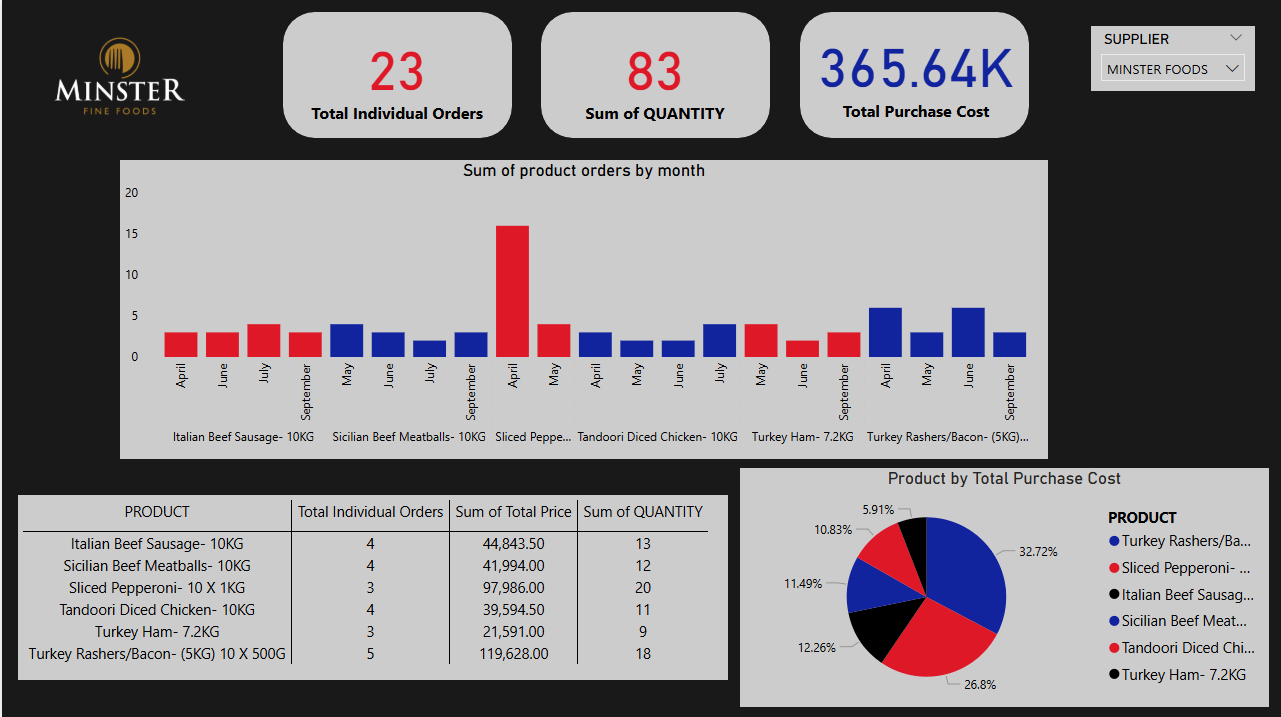

The dashboard page shown, as its layout file describes it:
{"tool":"powerbi","page":{"name":"MINSTER","canvas":[1280,720],"ordinal":1},"visuals":[{"type":"pivotTable","fields":{"Rows":["deliveryScheduleCSV.PRODUCT"],"Values":["MeasureTable.Total Individual Orders","Sum(deliveryScheduleCSV.Total Price)","Sum(deliveryScheduleCSV.QUANTITY)"]},"box":[15.6,495.6,710,185.6],"z":0},{"type":"shape","box":[281.1,13.3,228.6,126.4],"z":1000,"group":"g3"},{"type":"shape","box":[538.9,13.3,228.6,126.4],"z":1000,"group":"g1"},{"type":"slicer","fields":{"Values":["unique_supplier sheet.SUPPLIER"]},"box":[1088.9,27.5,164,64.7],"z":1000},{"type":"shape","box":[797.8,13.3,228.6,126.4],"z":2000,"group":"g2"},{"type":"pieChart","fields":{"Category":["unique_product sheet.PRODUCT"],"Y":["MeasureTable.Total Purchase Cost"]},"box":[737.8,468.9,528.9,238.9],"z":2000},{"type":"lineStackedColumnComboChart","title":"Sum of product by month","fields":{"Y":["Sum(deliveryScheduleCSV.QUANTITY)"],"Category":["unique_product sheet.PRODUCT","deliveryScheduleCSV.DATE RECEIVED.Variation.Date Hierarchy.Month"]},"box":[117.8,161.1,927.8,298.9],"z":3000},{"type":"image","box":[45.7,4.9,144,144],"z":4000},{"type":"group","id":"g1","title":"Group 1","box":[538.9,13.3,228.9,126.7],"z":5000},{"type":"group","id":"g2","title":"Group 2","box":[797.8,13.3,228.6,126.4],"z":6000},{"type":"group","id":"g3","title":"Group 1","box":[281.1,13.3,228.9,126.7],"z":7000},{"type":"card","fields":{"Values":["MeasureTable.Total Purchase Cost"]},"box":[809.2,19.6,210,107.8],"z":7000,"group":"g2"},{"type":"card","fields":{"Values":["MeasureTable.Total Individual Orders"]},"box":[294.9,24,200,103.3],"z":8000,"group":"g3"},{"type":"card","fields":{"Values":["Sum(deliveryScheduleCSV.QUANTITY)"]},"box":[552.7,24,200,103.3],"z":8000,"group":"g1"}]}

Visuals, with their boxes in screenshot pixels (x1, y1, x2, y2), scaled from the page's 1280x720 canvas onto the 1281x717 screenshot:
pivotTable - deliveryScheduleCSV.PRODUCT x MeasureTable.Total Individual Orders: x1=16, y1=494, x2=726, y2=678
shape: x1=281, y1=13, x2=510, y2=139
shape: x1=539, y1=13, x2=768, y2=139
slicer - unique_supplier sheet.SUPPLIER: x1=1090, y1=27, x2=1254, y2=92
shape: x1=798, y1=13, x2=1027, y2=139
pieChart - unique_product sheet.PRODUCT x MeasureTable.Total Purchase Cost: x1=738, y1=467, x2=1268, y2=705
"Sum of product by month" lineStackedColumnComboChart: x1=118, y1=160, x2=1046, y2=458
image: x1=46, y1=5, x2=190, y2=148
"Group 1" group: x1=539, y1=13, x2=768, y2=139
"Group 2" group: x1=798, y1=13, x2=1027, y2=139
"Group 1" group: x1=281, y1=13, x2=510, y2=139
card - MeasureTable.Total Purchase Cost: x1=810, y1=20, x2=1020, y2=127
card - MeasureTable.Total Individual Orders: x1=295, y1=24, x2=495, y2=127
card - Sum(deliveryScheduleCSV.QUANTITY): x1=553, y1=24, x2=753, y2=127
